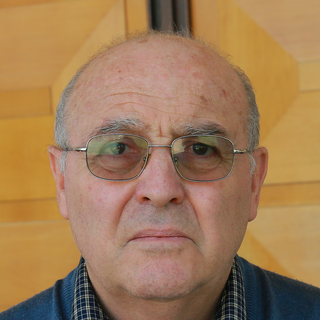eye: (179, 136, 222, 163), (98, 138, 140, 162)
